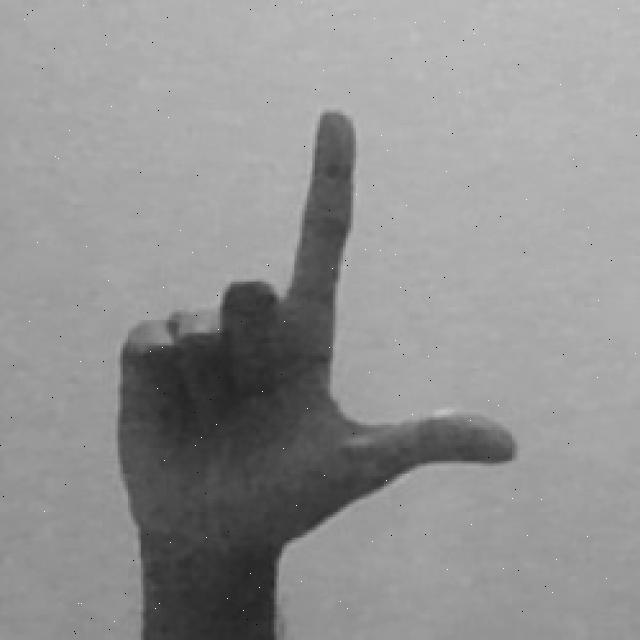L: (114, 103, 522, 633)
